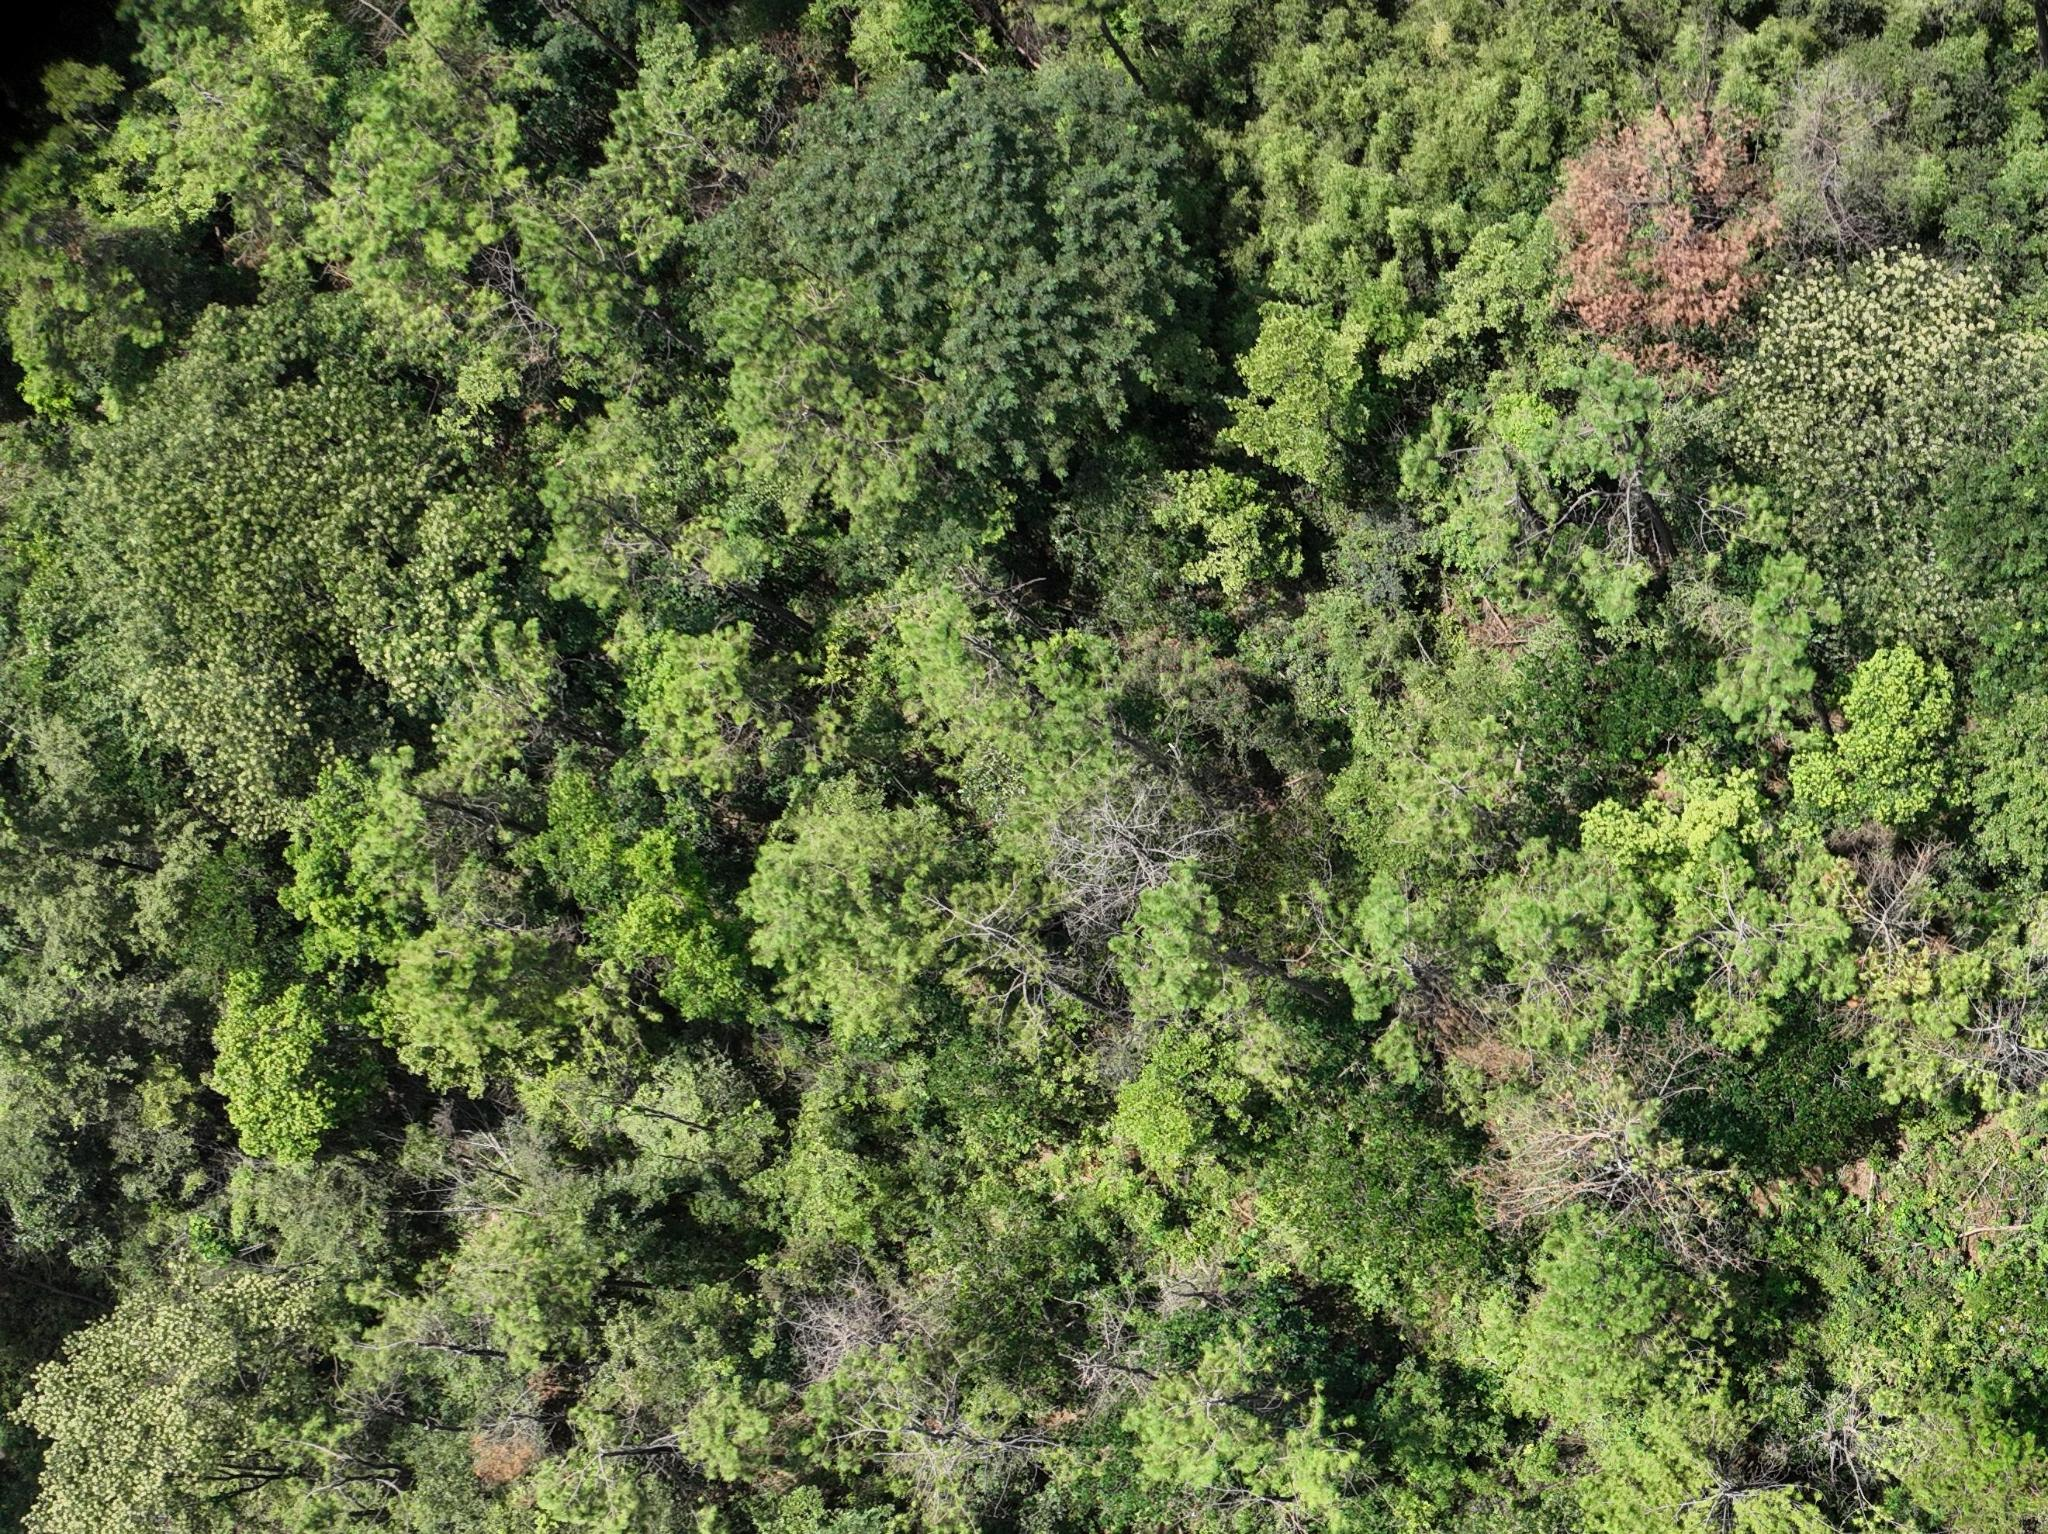dead: (1059, 786, 1192, 931)
heavy: (1539, 97, 1774, 393)
